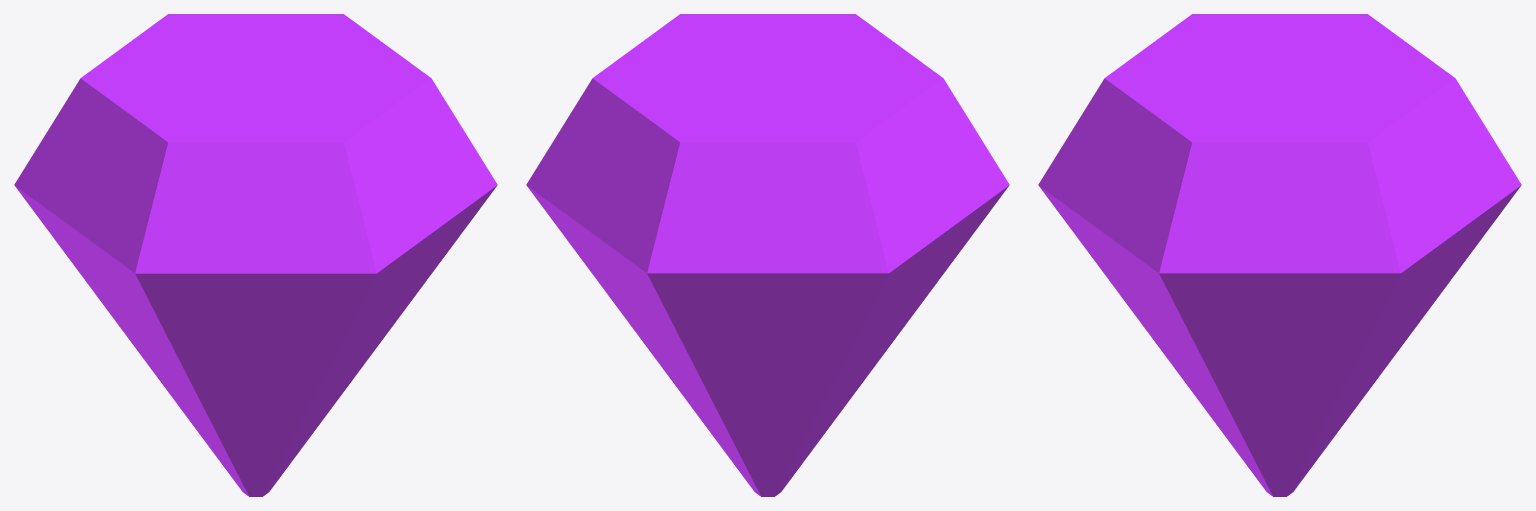
File: gema.fbx
The picture shows the model from 3 angles, left to right: view 1: azimuth 30°, elevation 25°; view 2: azimuth 150°, elevation 25°; view 3: azimuth 270°, elevation 25°; orthographic projection.
Visible parts, largest first — view 1: Stone4; view 2: Stone4; view 3: Stone4.
Boxes of the visible parts, x1=… form: Stone4: x1=14, y1=14, x2=497, y2=496; Stone4: x1=526, y1=14, x2=1009, y2=496; Stone4: x1=1038, y1=14, x2=1521, y2=496.
Size of the model in its own units: 0.2908 by 0.3171 by 0.3357.
